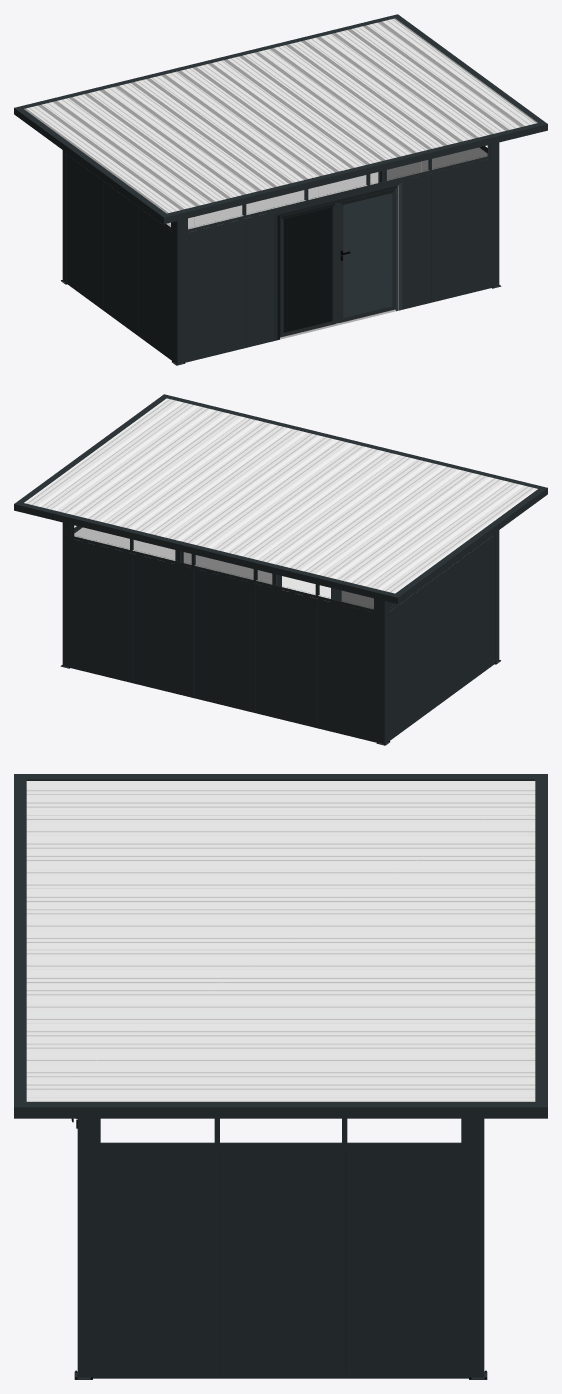
3 renders of one model, top to bottom at view 1: azimuth 30°, elevation 25°; view 2: azimuth 150°, elevation 25°; view 3: azimuth 270°, elevation 25°, orthographic. The views are drawn at different scales.
Parts seen in each view (by area): view 1: priximbattable_net_abris_de_jardin_640005_abri_de_jardin_mim, folha, folha_2, porta_avec_hublot; view 2: priximbattable_net_abris_de_jardin_640005_abri_de_jardin_mim, folha_2, folha; view 3: priximbattable_net_abris_de_jardin_640005_abri_de_jardin_mim.
Part boxes in pixels (x1,y1,x2,y2): priximbattable_net_abris_de_jardin_640005_abri_de_jardin_mim: (14,14,547,365); folha: (280,202,339,337); folha_2: (339,188,395,322); porta_avec_hublot: (273,183,402,340); priximbattable_net_abris_de_jardin_640005_abri_de_jardin_mim: (14,394,547,745); folha_2: (276,575,336,599); folha: (336,589,395,609); priximbattable_net_abris_de_jardin_640005_abri_de_jardin_mim: (14,774,547,1379).
Bounding box in the file's own units: 620 × 259 × 420.
Materials: 1 (1 with a texture image).
